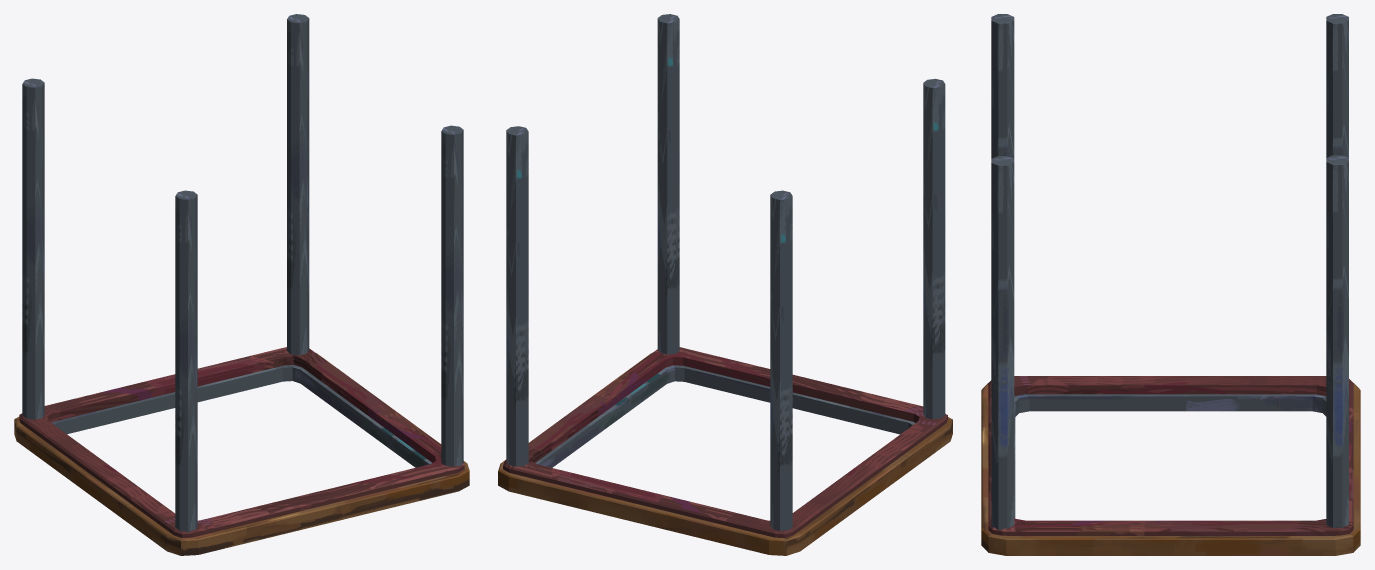
Rendered from StampFrame.fbx.
3 views of the same model, side by side, from view 1: azimuth 30°, elevation 25°; view 2: azimuth 150°, elevation 25°; view 3: azimuth 270°, elevation 25° (orthographic). The views are drawn at different scales.
Parts seen in each view (by area): view 1: 立方体.002, 立方体.001, 立方体.006, 立方体.003, 立方体.004, 立方体.005, 立方体.010; view 2: 立方体.002, 立方体.001, 立方体.003, 立方体.004, 立方体.006, 立方体.005, 立方体.010; view 3: 立方体.002, 立方体.001, 立方体.003, 立方体.006, 立方体.010, 立方体.004, 立方体.005.
Part boxes in pixels (box(x1,y1,x2,y2)): 立方体.002: box(19, 347, 464, 537); 立方体.001: box(14, 353, 469, 555); 立方体.006: box(287, 14, 309, 355); 立方体.003: box(441, 125, 463, 466); 立方体.004: box(175, 190, 197, 532); 立方体.005: box(22, 78, 44, 419); 立方体.010: box(52, 365, 431, 467); 立方体.002: box(503, 347, 947, 538); 立方体.001: box(498, 353, 952, 555); 立方体.003: box(657, 14, 679, 354); 立方体.004: box(923, 78, 945, 419); 立方体.006: box(506, 126, 528, 466); 立方体.005: box(770, 190, 792, 530); 立方体.010: box(535, 365, 915, 467); 立方体.002: box(988, 376, 1353, 535); 立方体.001: box(981, 383, 1360, 555); 立方体.003: box(991, 156, 1014, 530); 立方体.006: box(1326, 155, 1348, 527); 立方体.010: box(1014, 394, 1326, 518); 立方体.004: box(991, 14, 1014, 158); 立方体.005: box(1326, 14, 1348, 157).
Size of the model in its own units: 646 by 730 by 646.
